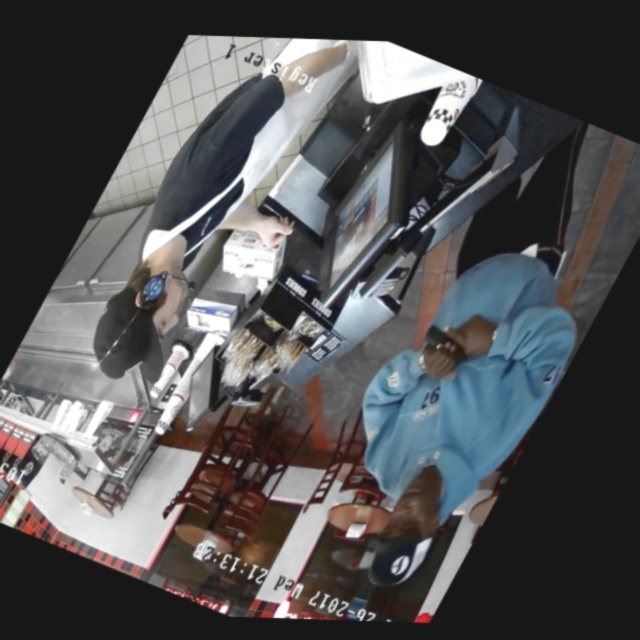gun: (391, 300, 500, 394)
